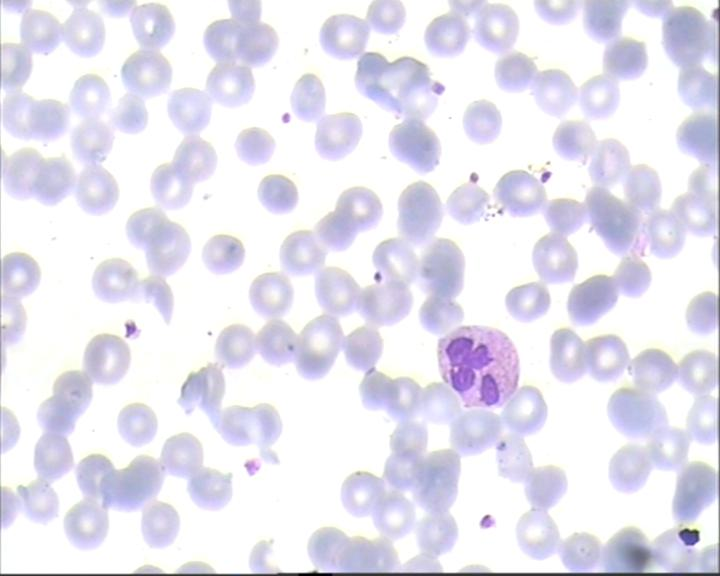neut: (432, 318, 523, 414)
